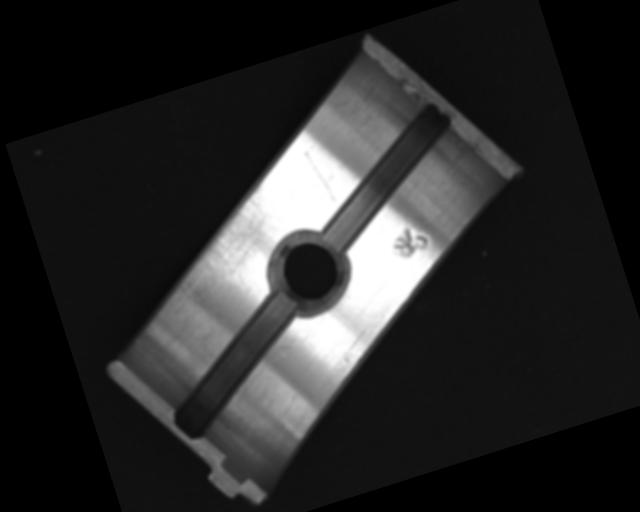bruise: (384, 216, 433, 262)
gap: (146, 287, 327, 442), (295, 100, 477, 253)
hole: (258, 222, 361, 327)
nick: (303, 146, 338, 209)
scratch: (150, 178, 296, 312)
